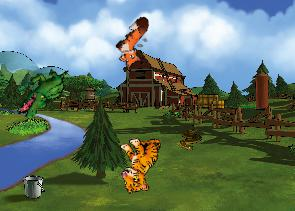crocodile: (15, 58, 70, 127)
fox: (106, 13, 166, 75)
tiger: (114, 133, 168, 194)
